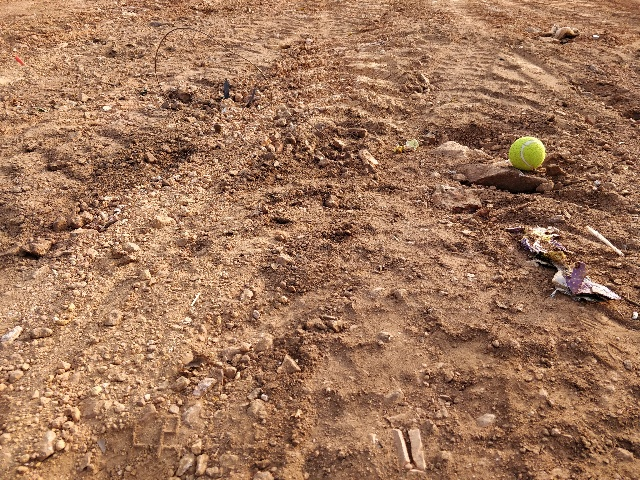ball: (504, 129, 554, 173)
